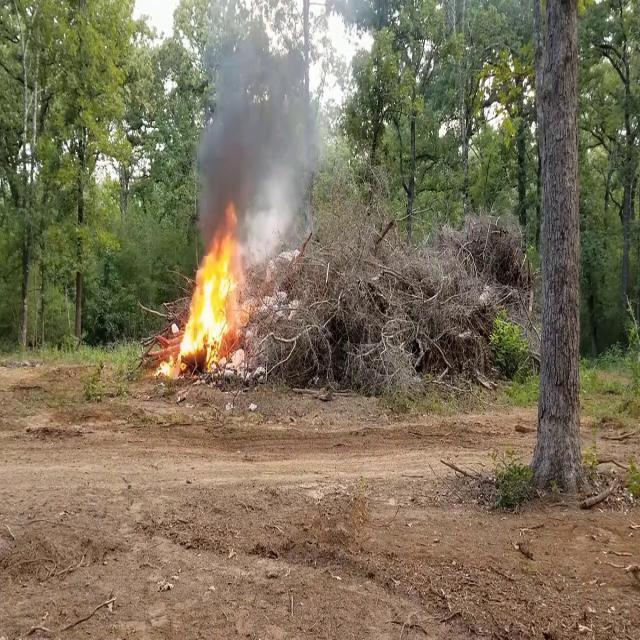Fire: (178, 226, 246, 366)
Smoke: (190, 6, 338, 250)
